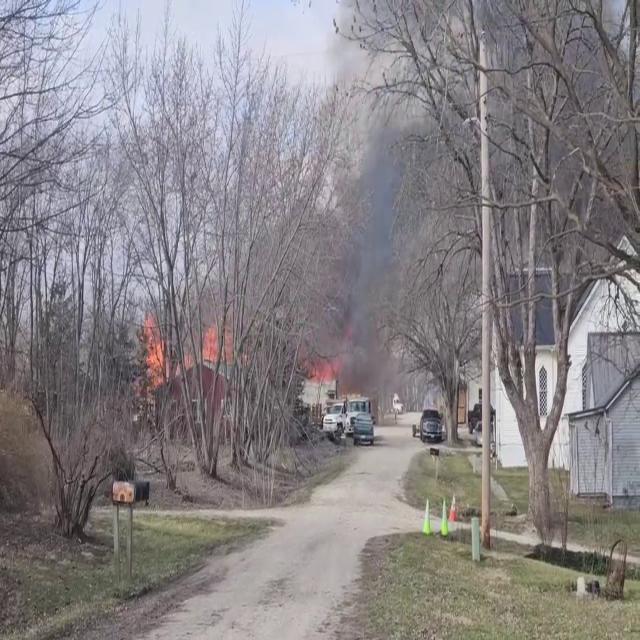Fire: (139, 300, 167, 384)
Smoke: (328, 106, 417, 391)
